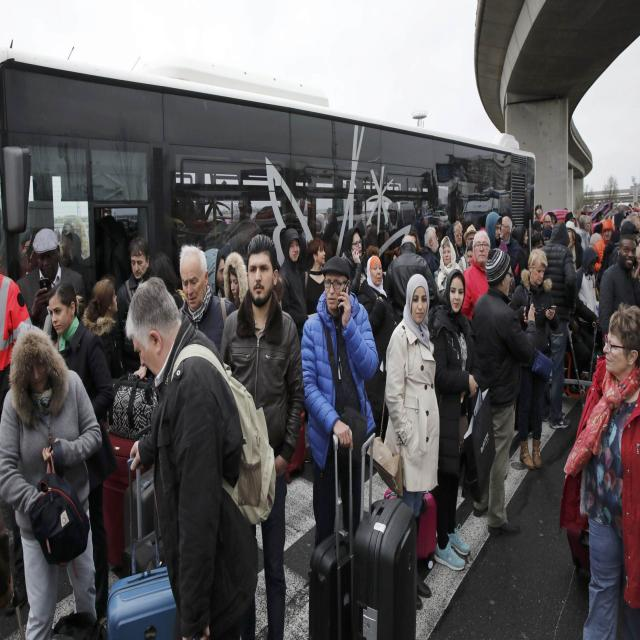body: (124, 275, 277, 640), (218, 233, 304, 640), (0, 315, 105, 640), (558, 302, 640, 640), (47, 279, 118, 630), (300, 255, 380, 548), (467, 246, 539, 542), (382, 273, 441, 611), (430, 266, 483, 572), (148, 182, 267, 313), (347, 180, 475, 270), (509, 248, 560, 472), (0, 214, 131, 279), (540, 220, 578, 430), (357, 255, 397, 443), (16, 228, 86, 332), (177, 241, 238, 353), (114, 237, 156, 377), (596, 230, 640, 348), (384, 234, 438, 327), (0, 280, 37, 411), (82, 278, 127, 379), (0, 489, 31, 625), (278, 227, 310, 351), (461, 228, 491, 322), (575, 244, 599, 336), (434, 235, 464, 306), (300, 238, 326, 315), (340, 227, 368, 298), (592, 208, 613, 302), (612, 199, 640, 269), (308, 190, 337, 245), (222, 250, 249, 308), (499, 215, 520, 286), (563, 205, 592, 254), (531, 203, 559, 253), (592, 217, 616, 274), (457, 223, 477, 274), (512, 224, 529, 278), (352, 259, 381, 289), (485, 210, 503, 250), (567, 229, 583, 272), (281, 460, 298, 490), (505, 214, 520, 239)
